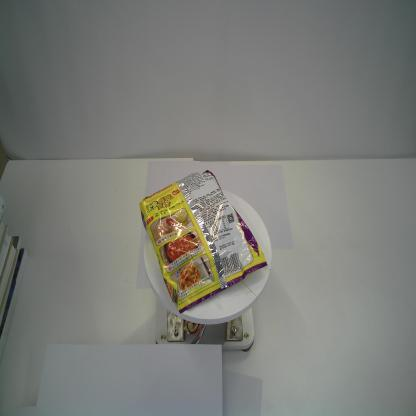Instant Noodles: (138, 168, 269, 316)
